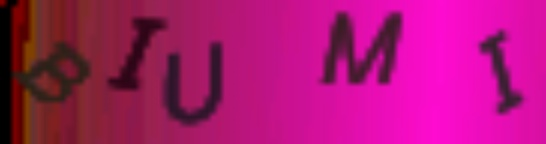B: (14, 41, 89, 106)
I: (102, 17, 170, 93), (478, 28, 526, 117)
M: (318, 6, 407, 87)
U: (159, 40, 229, 125)
